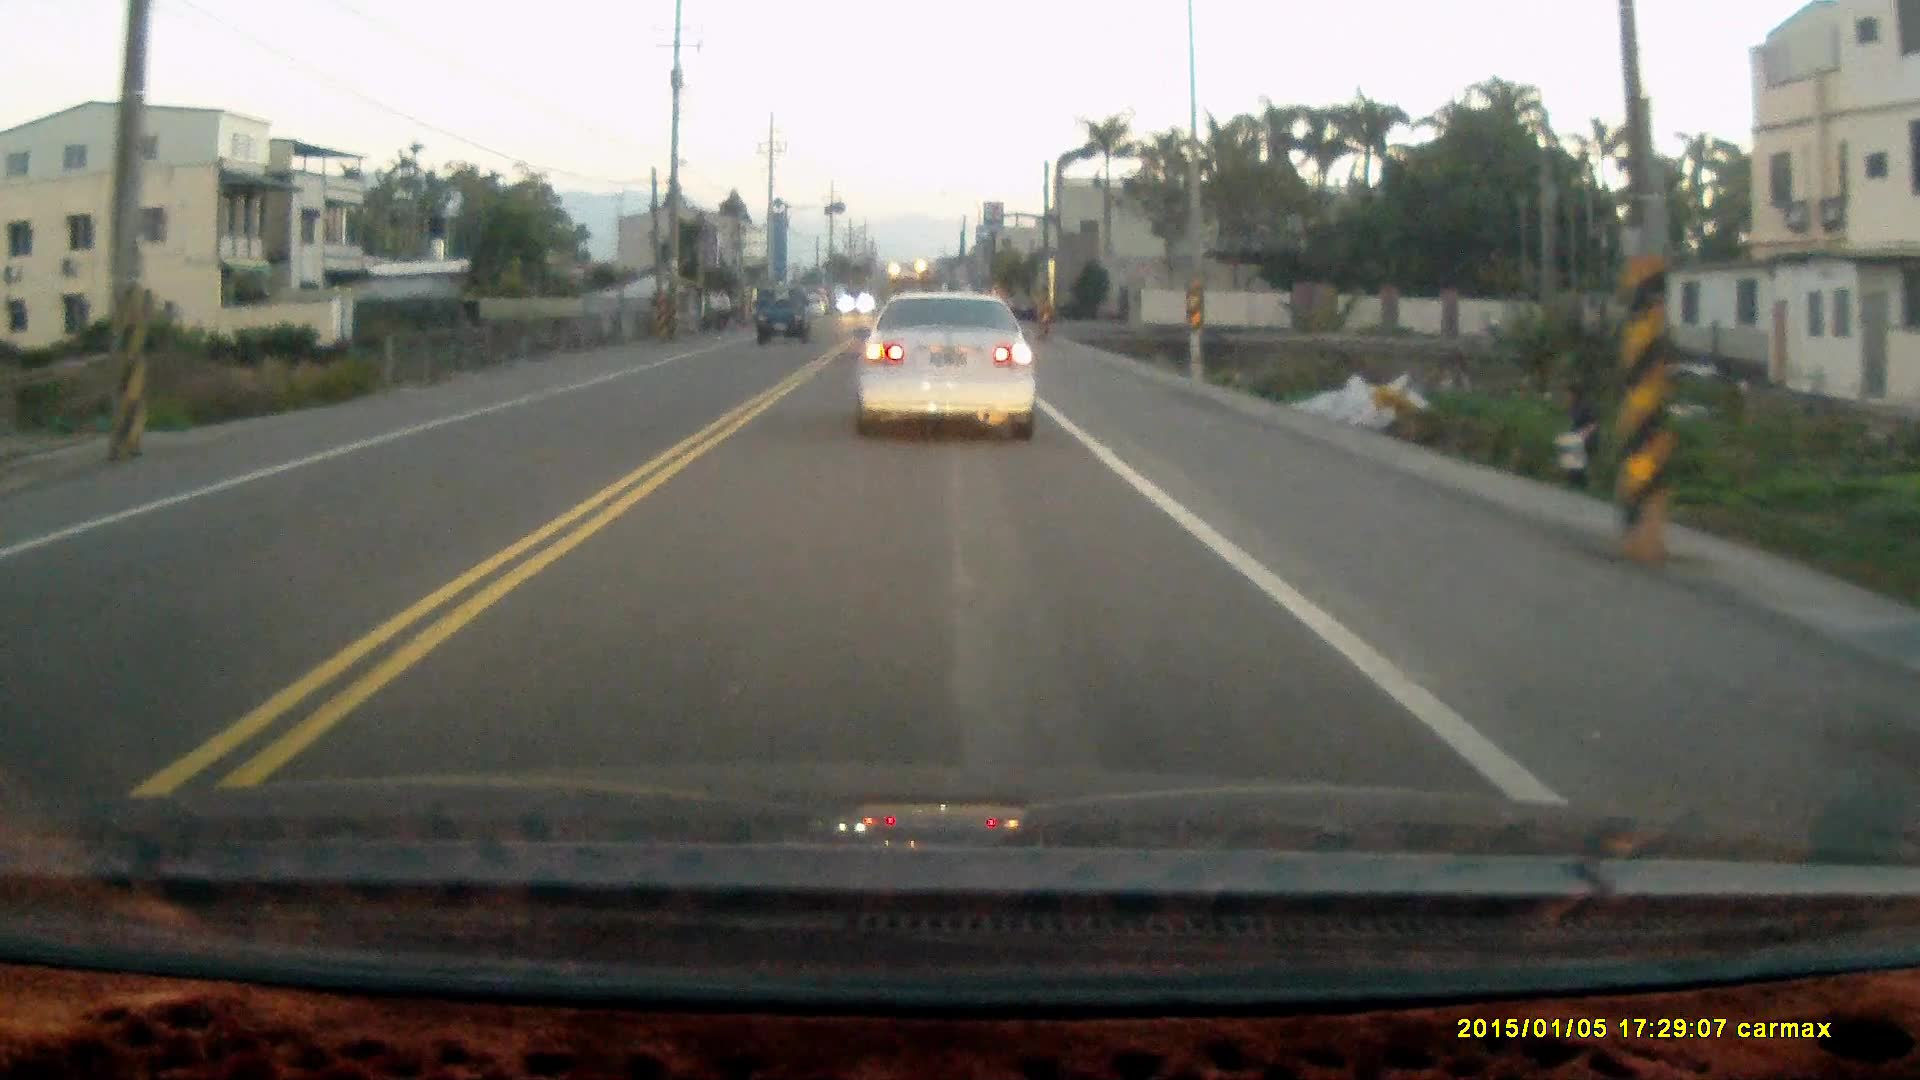pedestrian: (1558, 377, 1595, 493)
rider: (708, 281, 730, 338)
vehicle: (856, 290, 1044, 430), (753, 287, 816, 350)
